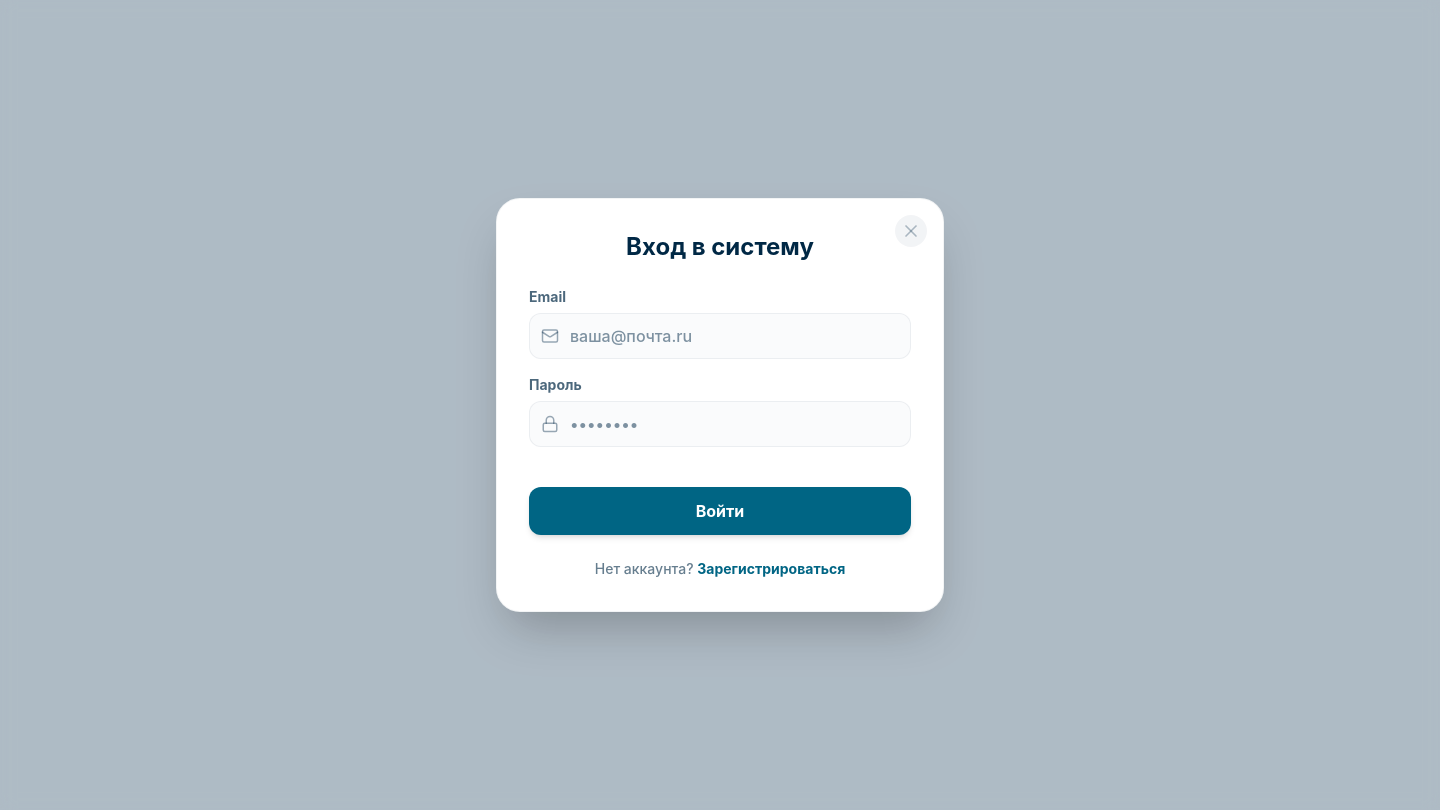
Test: AuthModal Registration Stress Tests › Test 2: SQL injection in email field — blocked by format validation
Click the button "Зарегистрироваться". click: (771, 569)
box: [697,559,845,579]
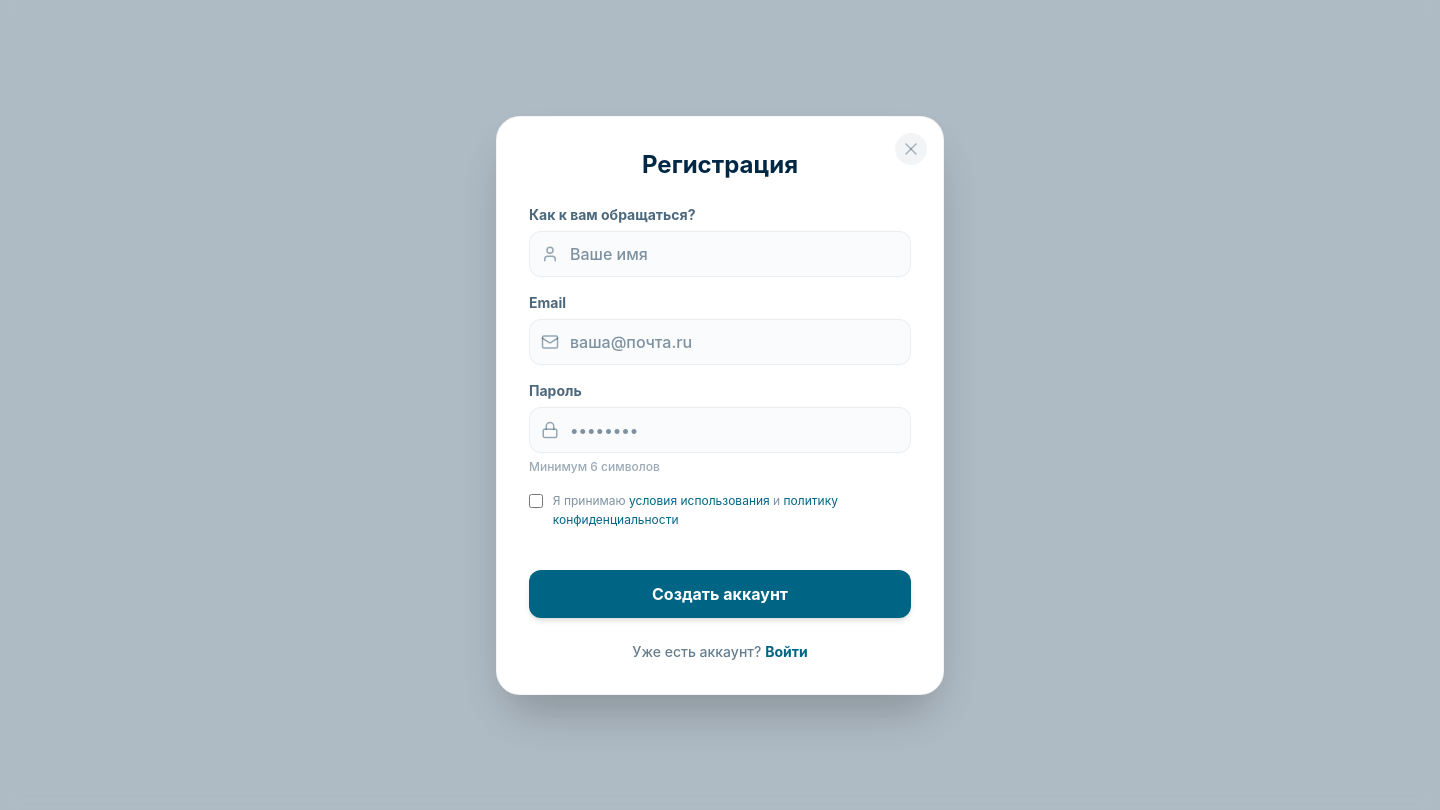
Type "Тест" into the field with placeholder "Ваше имя". click: (720, 254)
box: [529,230,911,276]
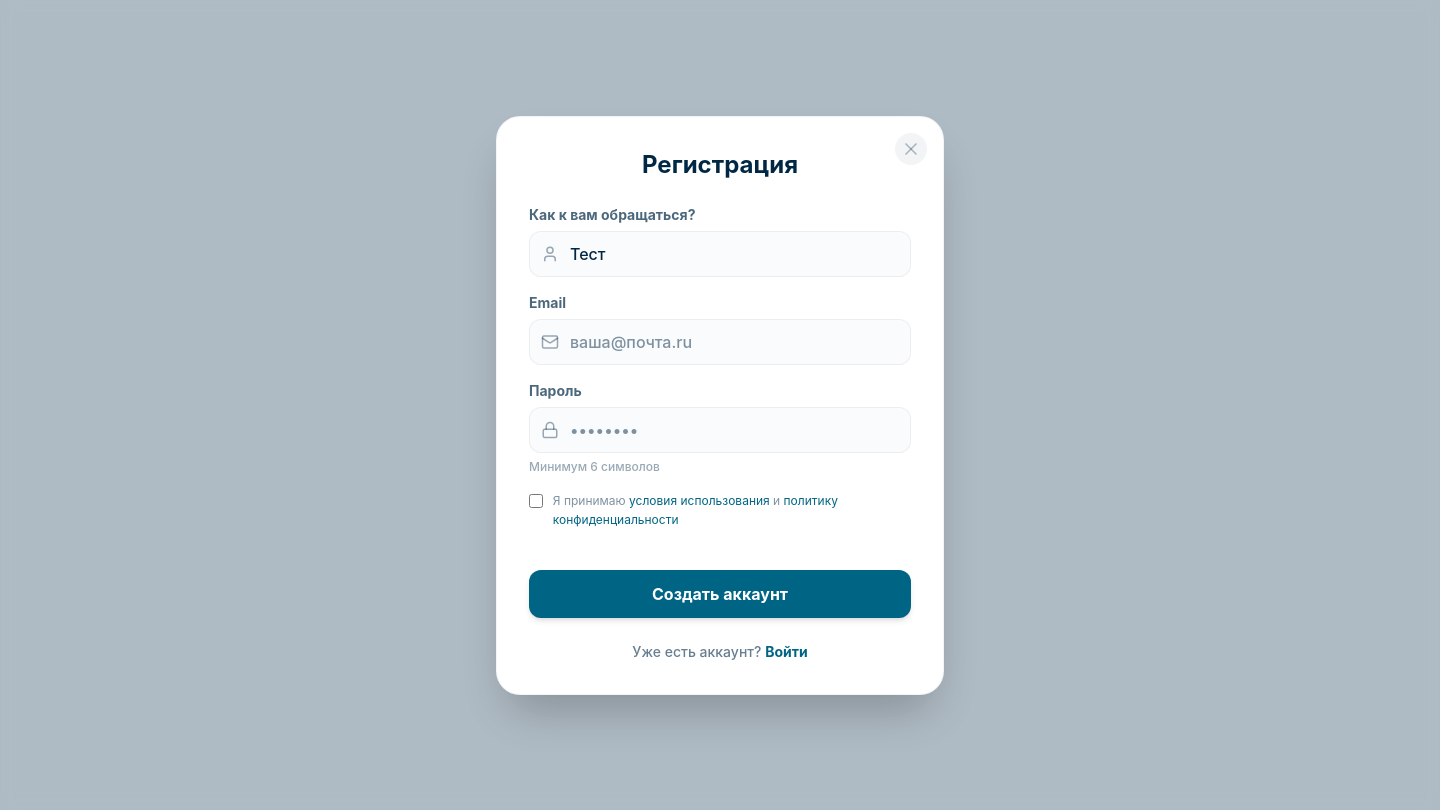
Type "'; DROP TABLE users; --@evil.com" into the field with placeholder "ваша@почта.ru". click: (720, 342)
box: [529,318,911,364]
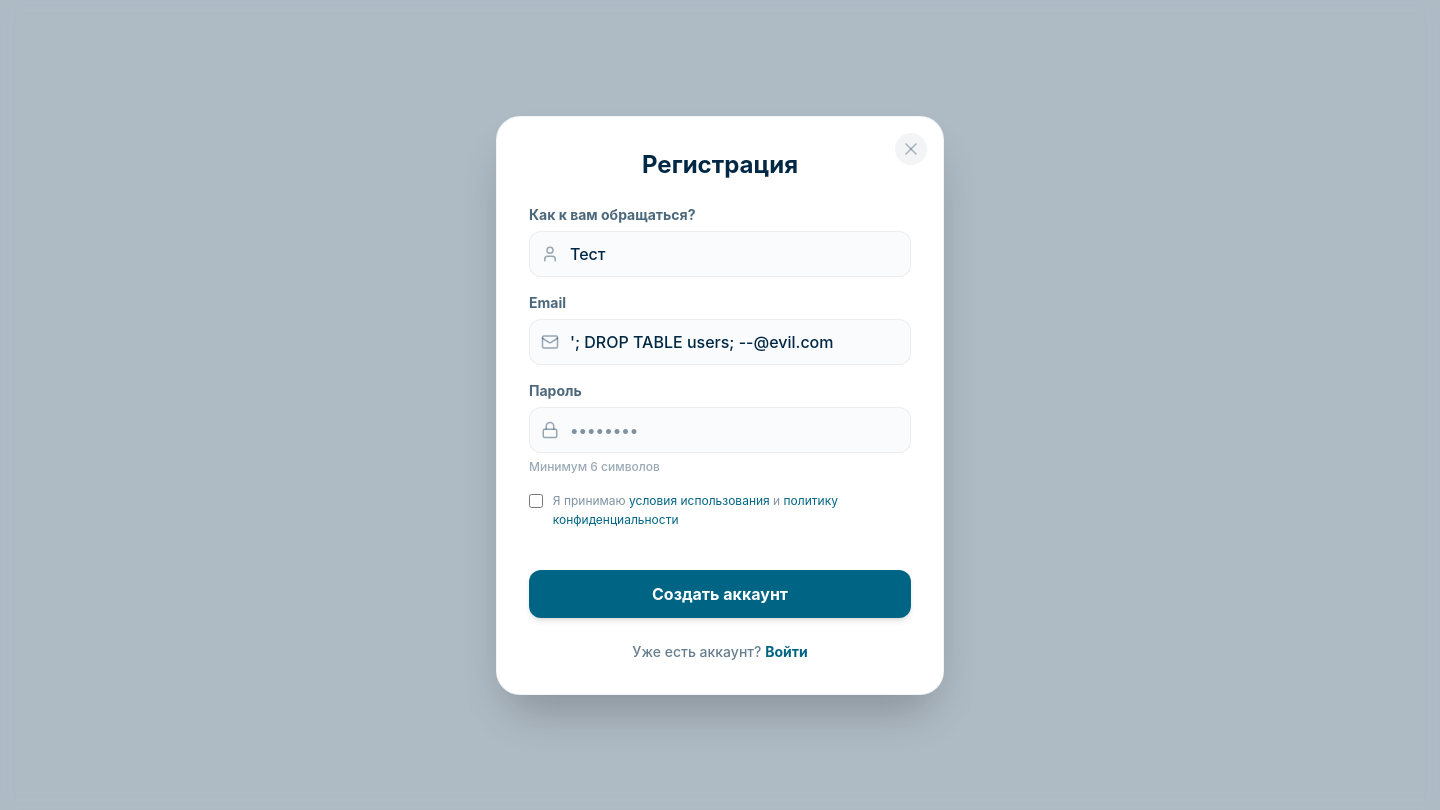
Type "password123" into the password field with placeholder "••••••••". click: (720, 430)
box: [529,406,911,452]
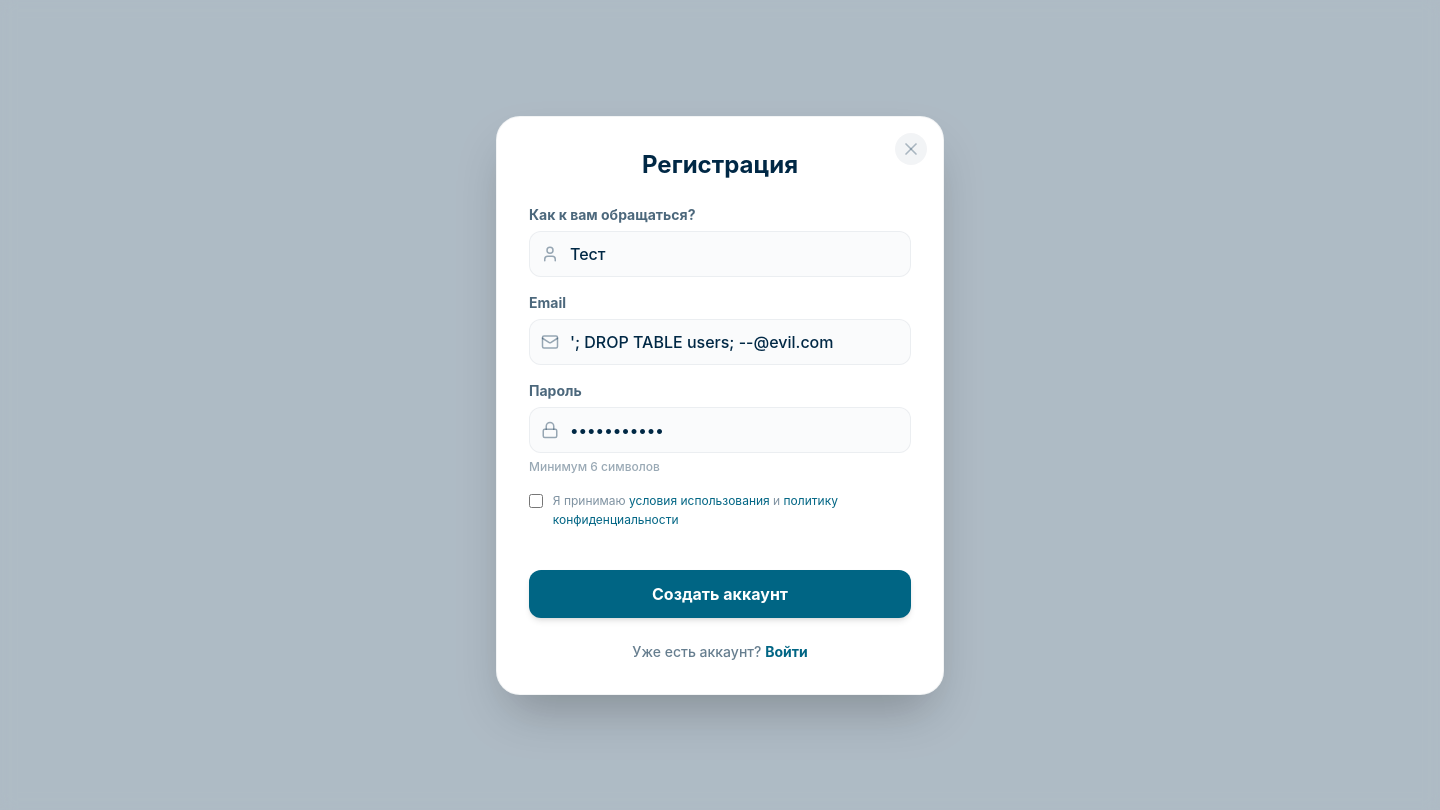
Click the checkbox. click: (536, 500)
box: [529,492,543,508]
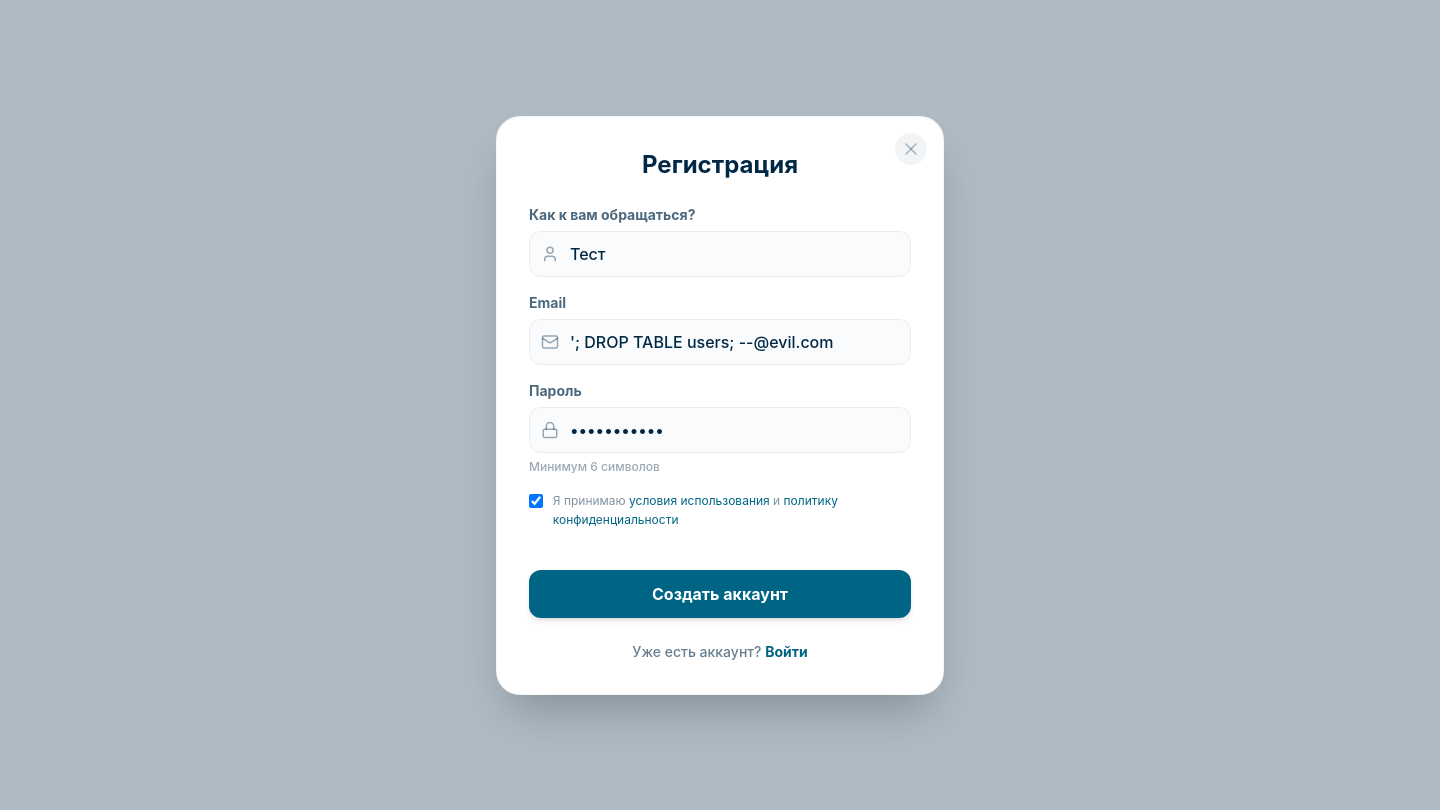
Submit the form named "Создать аккаунт", box [529,204,911,618]
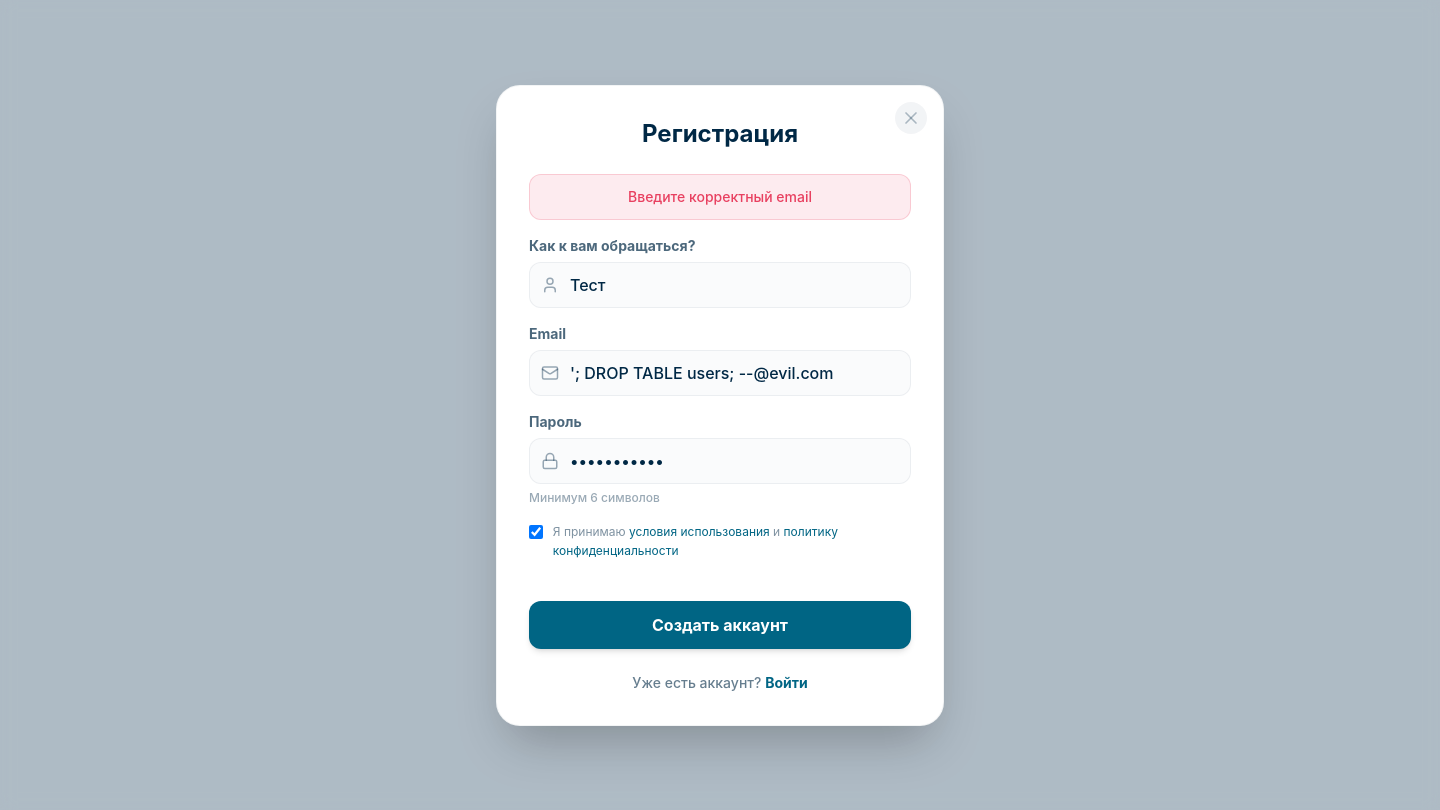
Expected: the text "Введите корректный email" is shown, [529,174,911,220]
